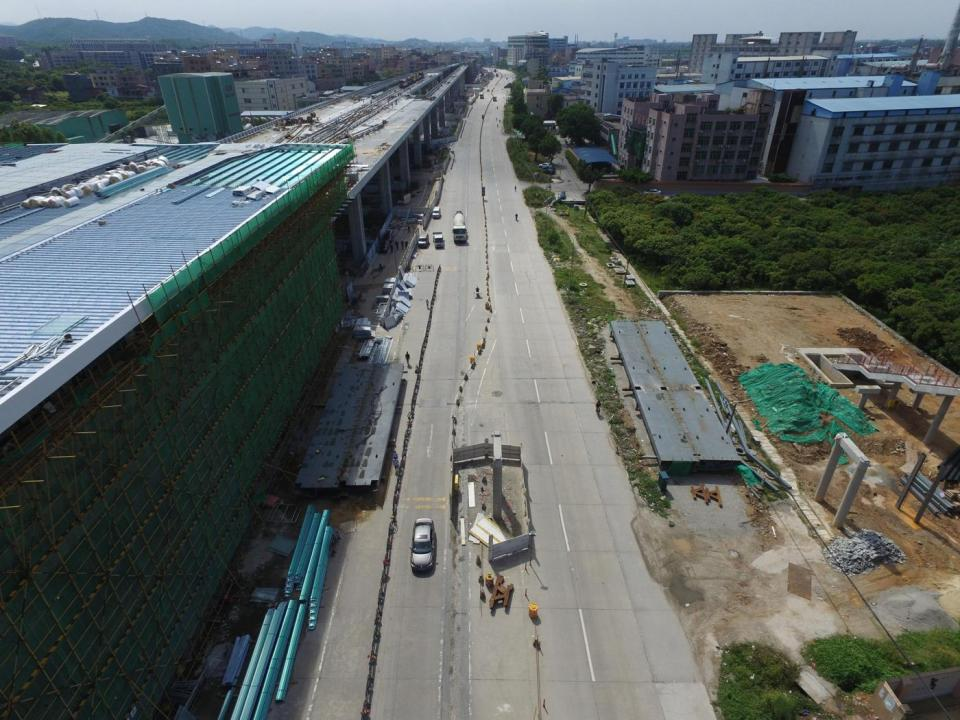bus: (492, 96, 498, 102), (479, 92, 484, 98)
car: (409, 516, 434, 574), (377, 241, 390, 254), (642, 188, 660, 196), (384, 229, 394, 242), (542, 167, 554, 175), (538, 164, 553, 170), (558, 190, 565, 198)
truck: (433, 231, 445, 248)
van: (417, 231, 429, 248), (433, 206, 441, 218)
